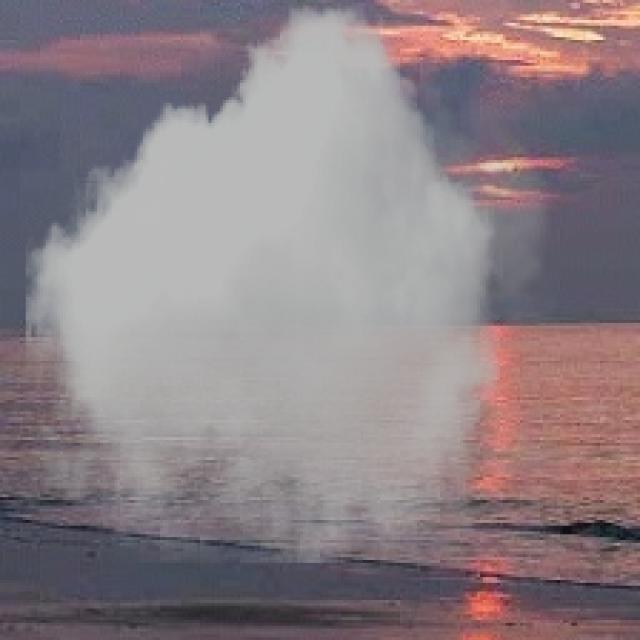Smoke: (17, 6, 563, 563)
